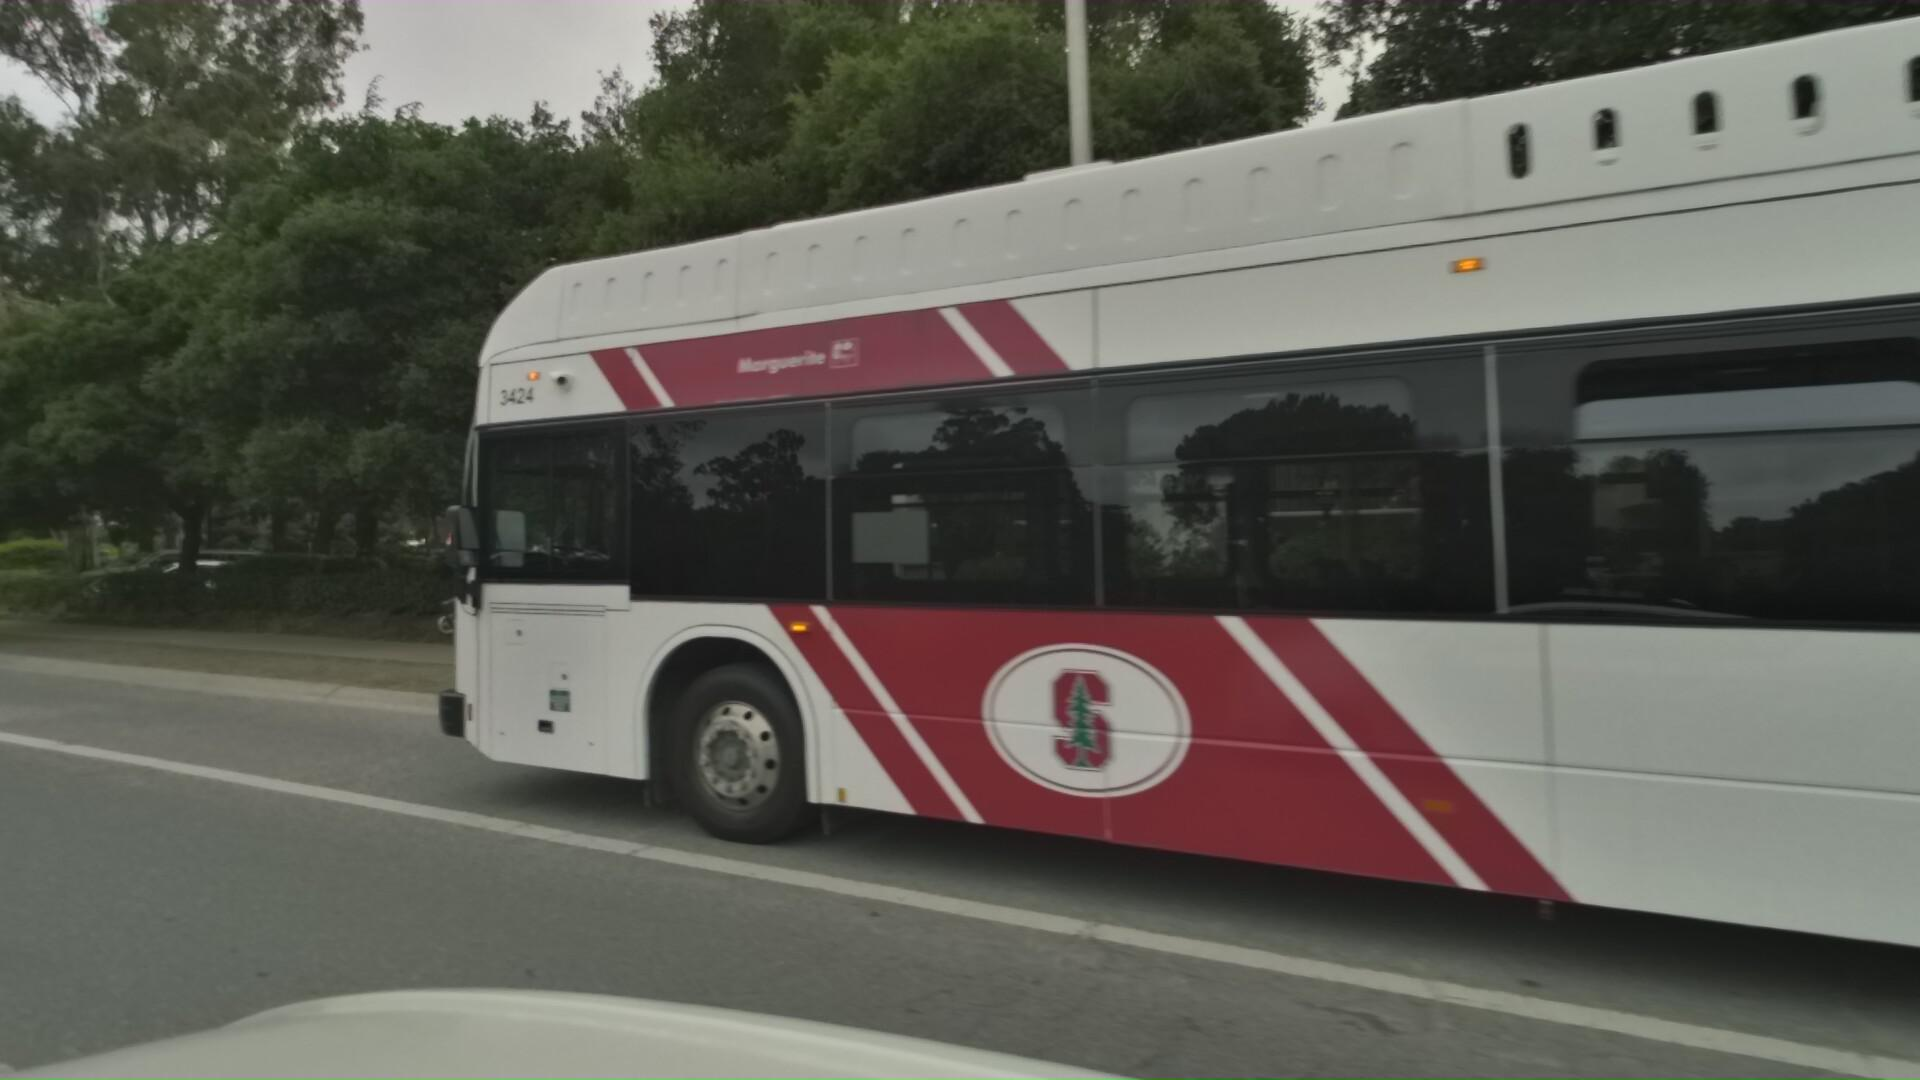car: (84, 531, 286, 599), (80, 545, 284, 608)
